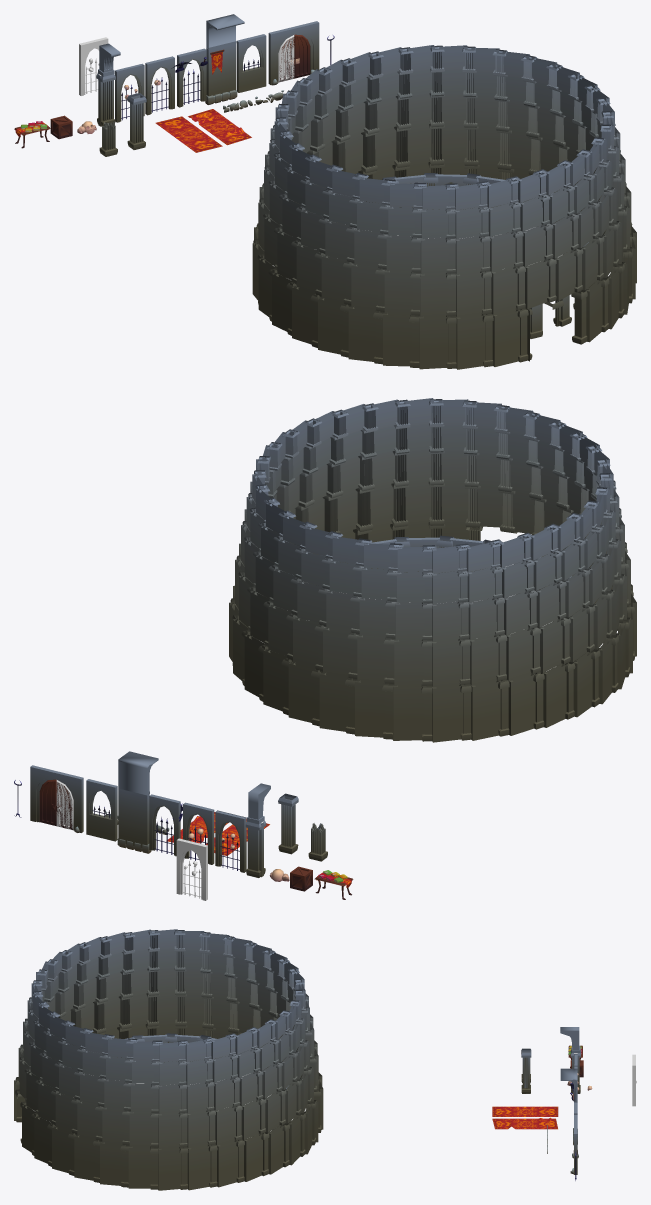
Rendered from WRLD_BLEND_ASSET_KIT_V5_books.fbx.
3 views of the same model, one above another, from view 1: azimuth 30°, elevation 25°; view 2: azimuth 150°, elevation 25°; view 3: azimuth 270°, elevation 25° (orthographic). The views are drawn at different scales.
Visible parts, largest first — view 1: Cube.025, Cube.024, Cube.007, Cylinder.003, Cube.001, Plane, Plane.001, Cube.022, Cube.002, Cube.020, Cube.026, Cube.003 (+5 smaller); view 2: Cube.025, Cube.001, Cube.007, Cylinder.003, Cube.005, Cube.022, Cube.003, Cube.020, Cube.002, Cube.026, Cube.024, Cube.008 (+2 smaller); view 3: Cube.025, Plane.001, Plane, Cube.024, Cube.026.
Boxes of the visible parts, <box> form: Cube.025: <box>252,45,636,369</box>; Cube.024: <box>340,173,592,338</box>; Cube.007: <box>268,21,319,84</box>; Cylinder.003: <box>236,34,266,92</box>; Cube.001: <box>206,43,235,96</box>; Plane: <box>155,116,222,152</box>; Plane.001: <box>188,109,251,145</box>; Cube.022: <box>206,14,244,49</box>; Cube.002: <box>145,56,174,115</box>; Cube.020: <box>177,48,206,107</box>; Cube.026: <box>127,93,146,149</box>; Cube.003: <box>115,63,144,122</box>; Cube.025: <box>229,398,636,742</box>; Cube.001: <box>118,788,149,847</box>; Cube.007: <box>30,765,83,832</box>; Cylinder.003: <box>86,779,117,841</box>; Cube.005: <box>176,838,207,900</box>; Cube.022: <box>118,751,158,795</box>; Cube.003: <box>215,810,246,872</box>; Cube.020: <box>149,794,180,856</box>; Cube.002: <box>183,802,214,864</box>; Cube.026: <box>278,793,298,854</box>; Cube.024: <box>288,535,582,660</box>; Cube.008: <box>39,779,56,825</box>; Cube.025: <box>14,929,323,1190</box>; Plane.001: <box>492,1117,557,1129</box>; Plane: <box>492,1106,558,1116</box>; Cube.024: <box>93,1033,291,1129</box>; Cube.026: <box>521,1048,531,1093</box>.
Bounding box in the file's own units: 2104 × 1041 × 4145.
